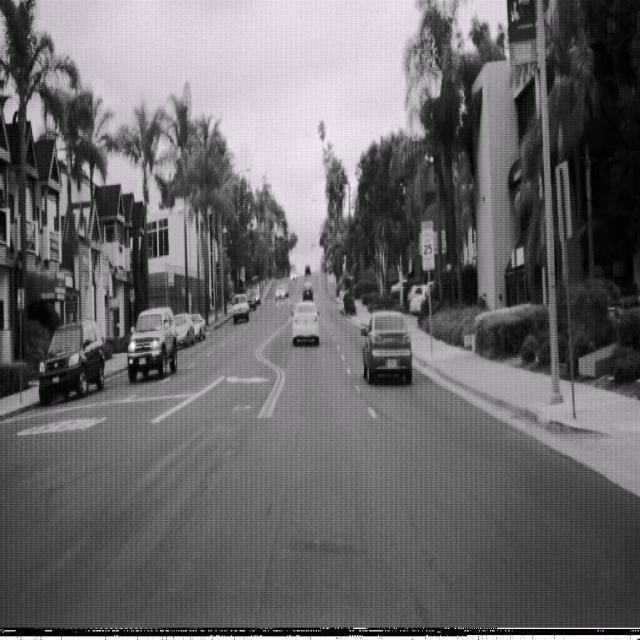speedLimit25: (420, 218, 435, 271)
